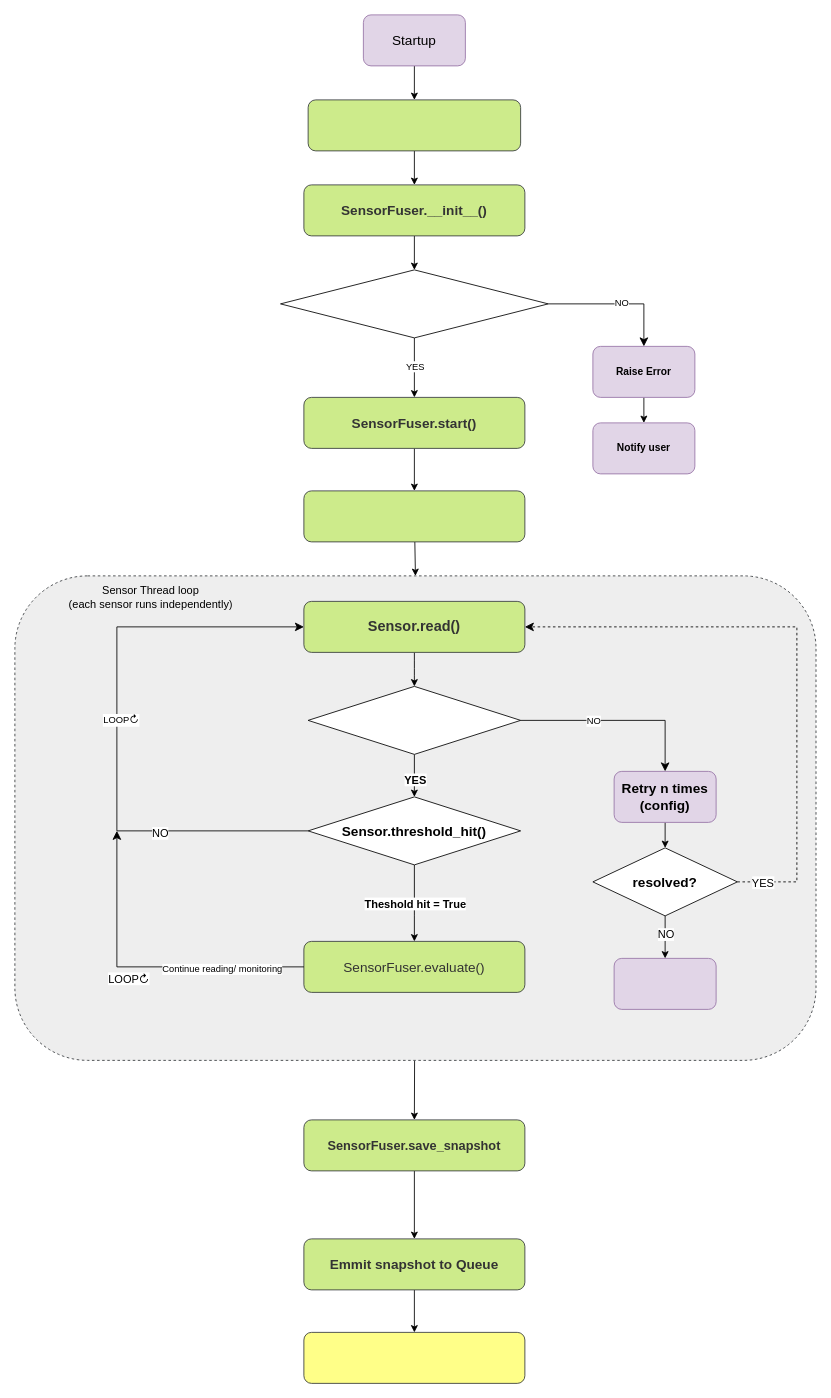
Some shapes in this 831 by 1398 pixel diagram are drawn without their labels. The shapes that lost their labels are listed below. From the top down, each one's box as (x1, y1, x2, y2) in pixels, then its label:
(307, 99, 521, 151): SensorConfig.load()
(280, 269, 548, 338): SensorFuser.Sensors.lengh() != 0
(303, 490, 525, 542): Fork Thread per sensor
(307, 686, 521, 754): reading valid?
(613, 958, 716, 1009): Disable sensor Notify users
(303, 1332, 525, 1383): → SEE layer (next)
